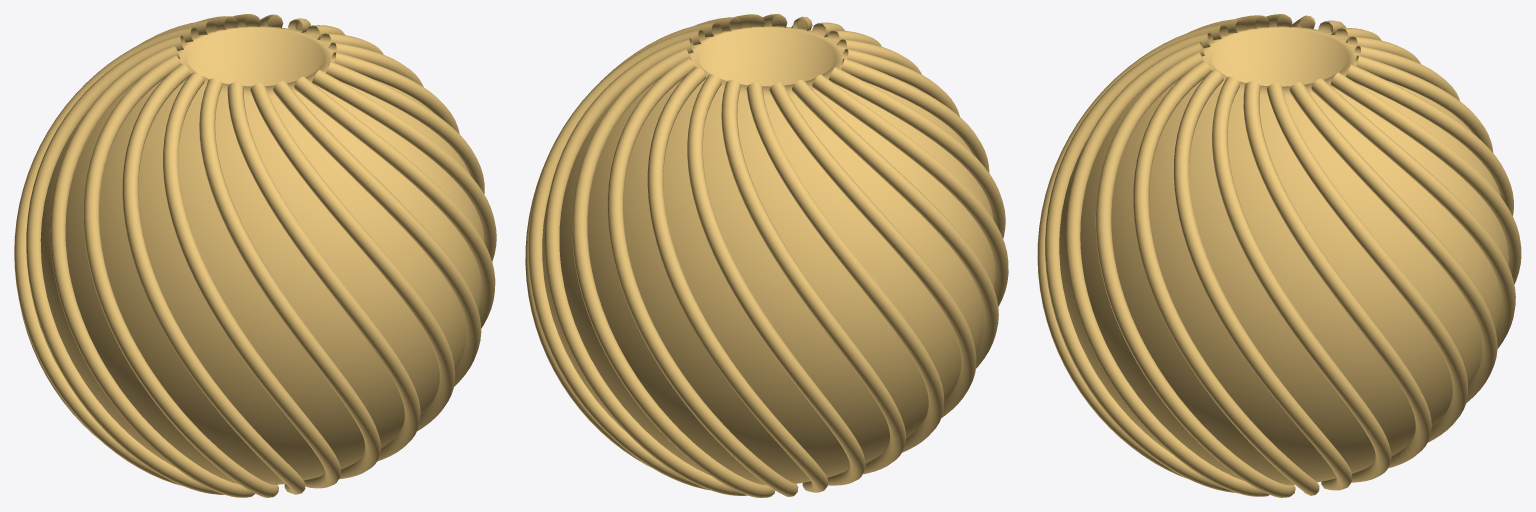
The model's file is spacer-10-gold.glb.
3 views of the same model, side by side, from view 1: azimuth 30°, elevation 25°; view 2: azimuth 150°, elevation 25°; view 3: azimuth 270°, elevation 25° (orthographic).
Visible parts, largest first — view 1: Spacer with through bore.016, Wire detail.008, Wire detail.009, Wire detail.007, Wire detail.010, Wire detail.011, Wire detail.012, Wire detail.013, Wire detail.014, Wire detail.006, Wire detail.015, Wire detail.016 (+6 smaller); view 2: Spacer with through bore.016, Wire detail.001, Wire detail, Wire detail.002, Wire detail.003, Wire detail.004, Wire detail.005, Wire detail.021, Wire detail.006, Wire detail.007, Wire detail.008, Wire detail.009 (+5 smaller); view 3: Spacer with through bore.016, Wire detail.016, Wire detail.015, Wire detail.017, Wire detail.014, Wire detail.018, Wire detail.019, Wire detail.020, Wire detail.021, Wire detail, Wire detail.001, Wire detail.002 (+5 smaller).
Boxes of the visible parts, left/top/right/bottom form: Spacer with through bore.016: left=33, top=26, right=484, bottom=484; Wire detail.008: left=50, top=44, right=254, bottom=497; Wire detail.009: left=83, top=54, right=278, bottom=497; Wire detail.007: left=26, top=35, right=224, bottom=494; Wire detail.010: left=122, top=64, right=305, bottom=494; Wire detail.011: left=163, top=72, right=340, bottom=488; Wire detail.012: left=199, top=78, right=380, bottom=479; Wire detail.013: left=227, top=82, right=420, bottom=461; Wire detail.014: left=250, top=83, right=455, bottom=431; Wire detail.006: left=14, top=27, right=198, bottom=485; Wire detail.015: left=273, top=81, right=481, bottom=386; Wire detail.016: left=294, top=76, right=495, bottom=328; Spacer with through bore.016: left=542, top=26, right=995, bottom=485; Wire detail.001: left=572, top=48, right=774, bottom=497; Wire detail: left=544, top=38, right=747, bottom=495; Wire detail.002: left=607, top=58, right=798, bottom=496; Wire detail.003: left=647, top=67, right=827, bottom=492; Wire detail.004: left=687, top=74, right=865, bottom=485; Wire detail.005: left=721, top=80, right=905, bottom=474; Wire detail.021: left=528, top=29, right=709, bottom=490; Wire detail.006: left=746, top=83, right=944, bottom=452; Wire detail.007: left=769, top=82, right=976, bottom=417; Wire detail.008: left=792, top=79, right=998, bottom=368; Wire detail.009: left=812, top=74, right=1008, bottom=306; Spacer with through bore.016: left=1059, top=26, right=1508, bottom=485; Wire detail.016: left=1095, top=51, right=1295, bottom=497; Wire detail.015: left=1065, top=42, right=1269, bottom=496; Wire detail.017: left=1133, top=61, right=1319, bottom=495; Wire detail.014: left=1045, top=32, right=1235, bottom=492; Wire detail.018: left=1174, top=69, right=1352, bottom=490; Wire detail.019: left=1212, top=76, right=1391, bottom=482; Wire detail.020: left=1243, top=81, right=1431, bottom=468; Wire detail.021: left=1266, top=83, right=1467, bottom=442; Wire detail: left=1289, top=82, right=1497, bottom=402; Wire detail.001: left=1311, top=78, right=1515, bottom=348; Wire detail.002: left=1330, top=72, right=1521, bottom=284.
Size of the model in its own units: 0.00419 by 0.00397 by 0.00422.
